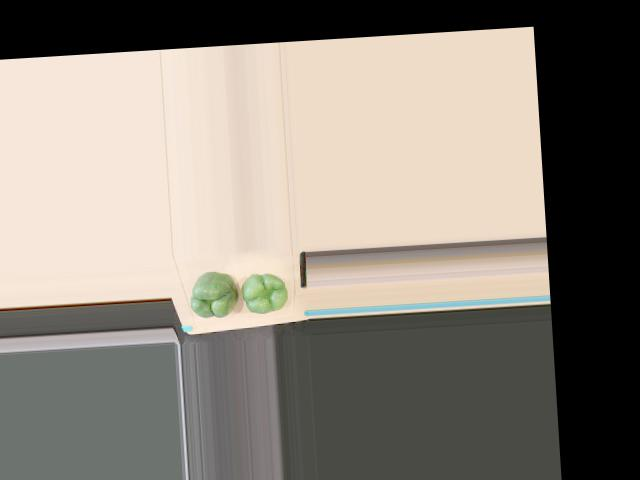bell_pepper: (238, 266, 288, 315)
